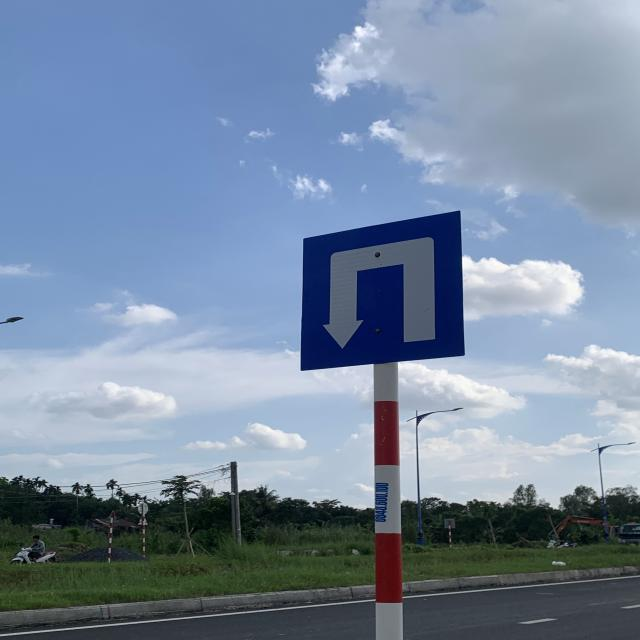Den_Giao_Thong: (300, 210, 468, 368)
